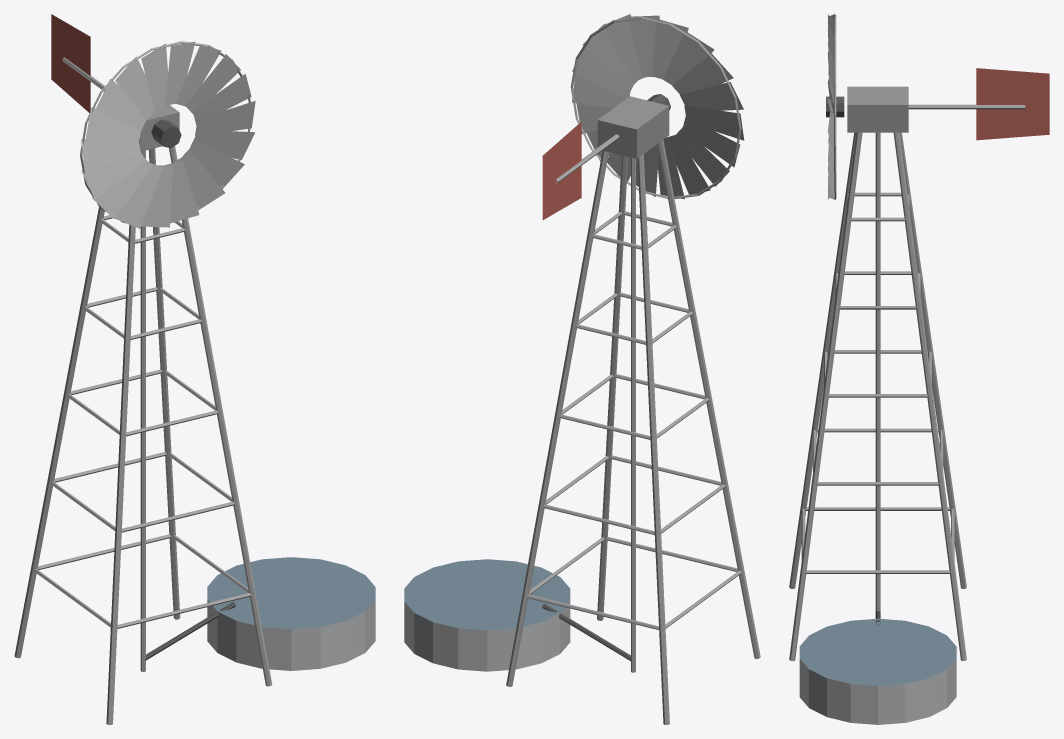
File: windmill.glb
3 renders of one model, left to right at view 1: azimuth 30°, elevation 25°; view 2: azimuth 150°, elevation 25°; view 3: azimuth 270°, elevation 25°, orthographic. The views are drawn at different scales.
Parts seen in each view (by area): view 1: windmill; view 2: windmill; view 3: windmill.
Boxes of the visible parts, left/top/right/bottom form: windmill: left=14, top=14, right=375, bottom=724; windmill: left=404, top=14, right=760, bottom=724; windmill: left=789, top=14, right=1049, bottom=724.
Size of the model in its own units: 5.42 by 10.83 by 4.25.
